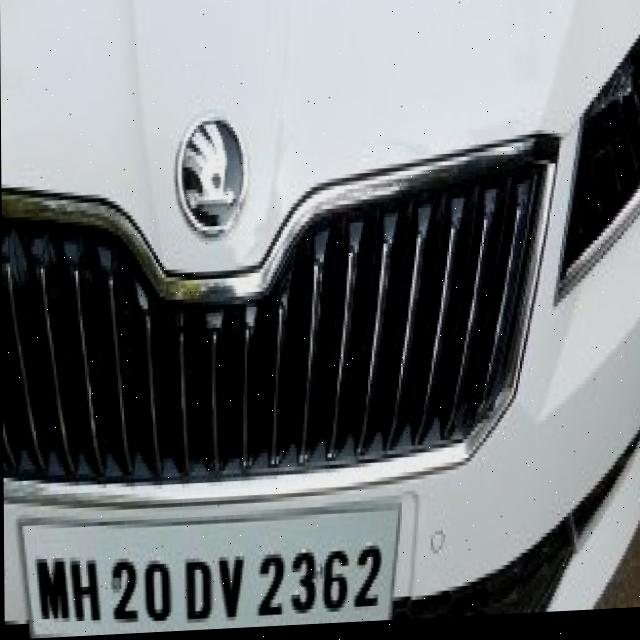plate: (17, 496, 401, 639)
